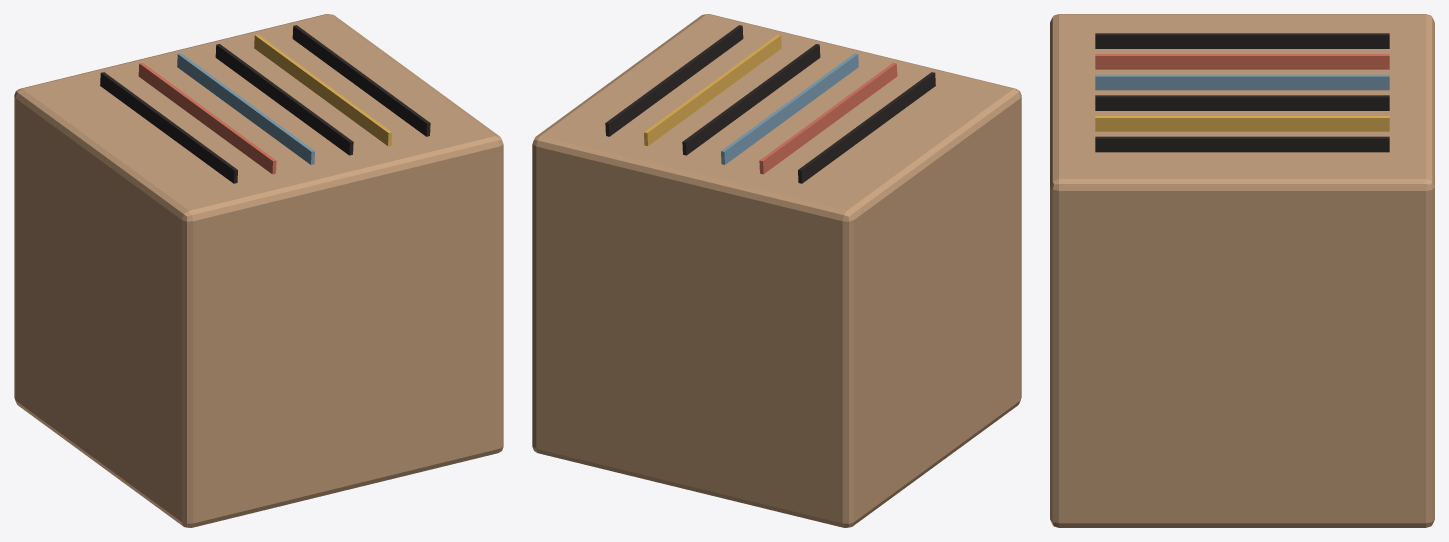
The model's file is hh_record_box.glb.
3 views of the same model, side by side, from view 1: azimuth 30°, elevation 25°; view 2: azimuth 150°, elevation 25°; view 3: azimuth 270°, elevation 25° (orthographic). The views are drawn at different scales.
Parts seen in each view (by area): view 1: crate, record.005, record.001, record, record.002, record.003, record.004; view 2: crate, record.005, record.001, record, record.002, record.003, record.004; view 3: crate, record.002, record.005, record, record.001, record.003, record.004.
Part boxes in pixels (x1=…): crate: x1=14, y1=14, x2=503, y2=527; record.005: x1=292, y1=25, x2=430, y2=136; record.001: x1=138, y1=62, x2=276, y2=174; record: x1=100, y1=72, x2=237, y2=183; record.002: x1=177, y1=53, x2=314, y2=164; record.003: x1=215, y1=44, x2=353, y2=155; record.004: x1=254, y1=34, x2=391, y2=145; crate: x1=532, y1=14, x2=1021, y2=527; record.005: x1=605, y1=25, x2=743, y2=136; record.001: x1=759, y1=62, x2=897, y2=174; record: x1=798, y1=72, x2=935, y2=183; record.002: x1=721, y1=53, x2=858, y2=164; record.003: x1=682, y1=44, x2=820, y2=155; record.004: x1=644, y1=34, x2=781, y2=145; crate: x1=1050, y1=14, x2=1434, y2=527; record.002: x1=1095, y1=74, x2=1389, y2=90; record.005: x1=1095, y1=136, x2=1389, y2=152; record: x1=1095, y1=33, x2=1389, y2=48; record.001: x1=1095, y1=54, x2=1389, y2=69; record.003: x1=1095, y1=95, x2=1389, y2=110; record.004: x1=1095, y1=116, x2=1389, y2=131.
Bounding box in the file's own units: 0.36 × 0.3539 × 0.34.
